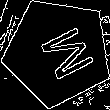M_SW: (25, 20, 91, 84)
